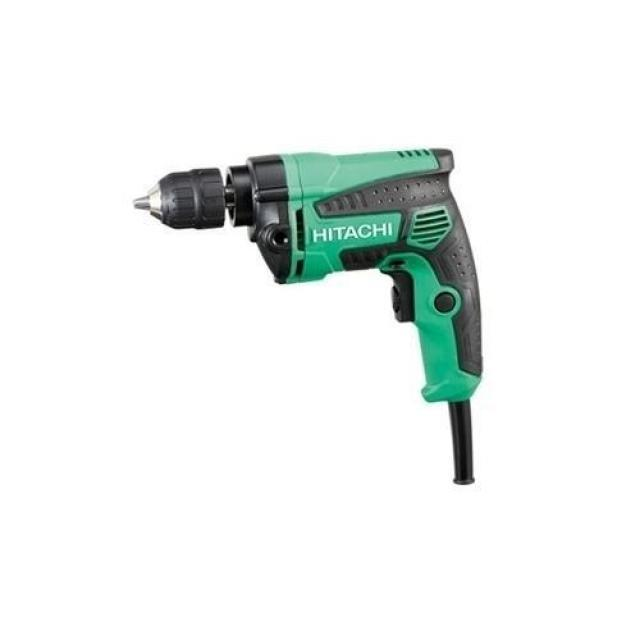drill: (132, 147, 484, 487)
